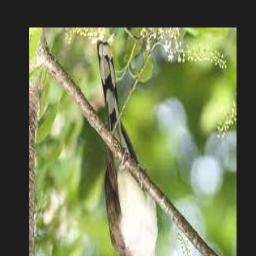Cuckoo: (96, 41, 167, 256)
